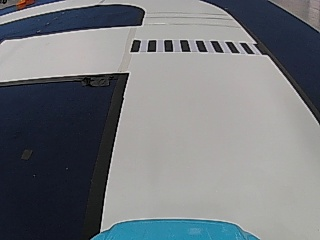CrossWalk: (122, 38, 261, 56)
